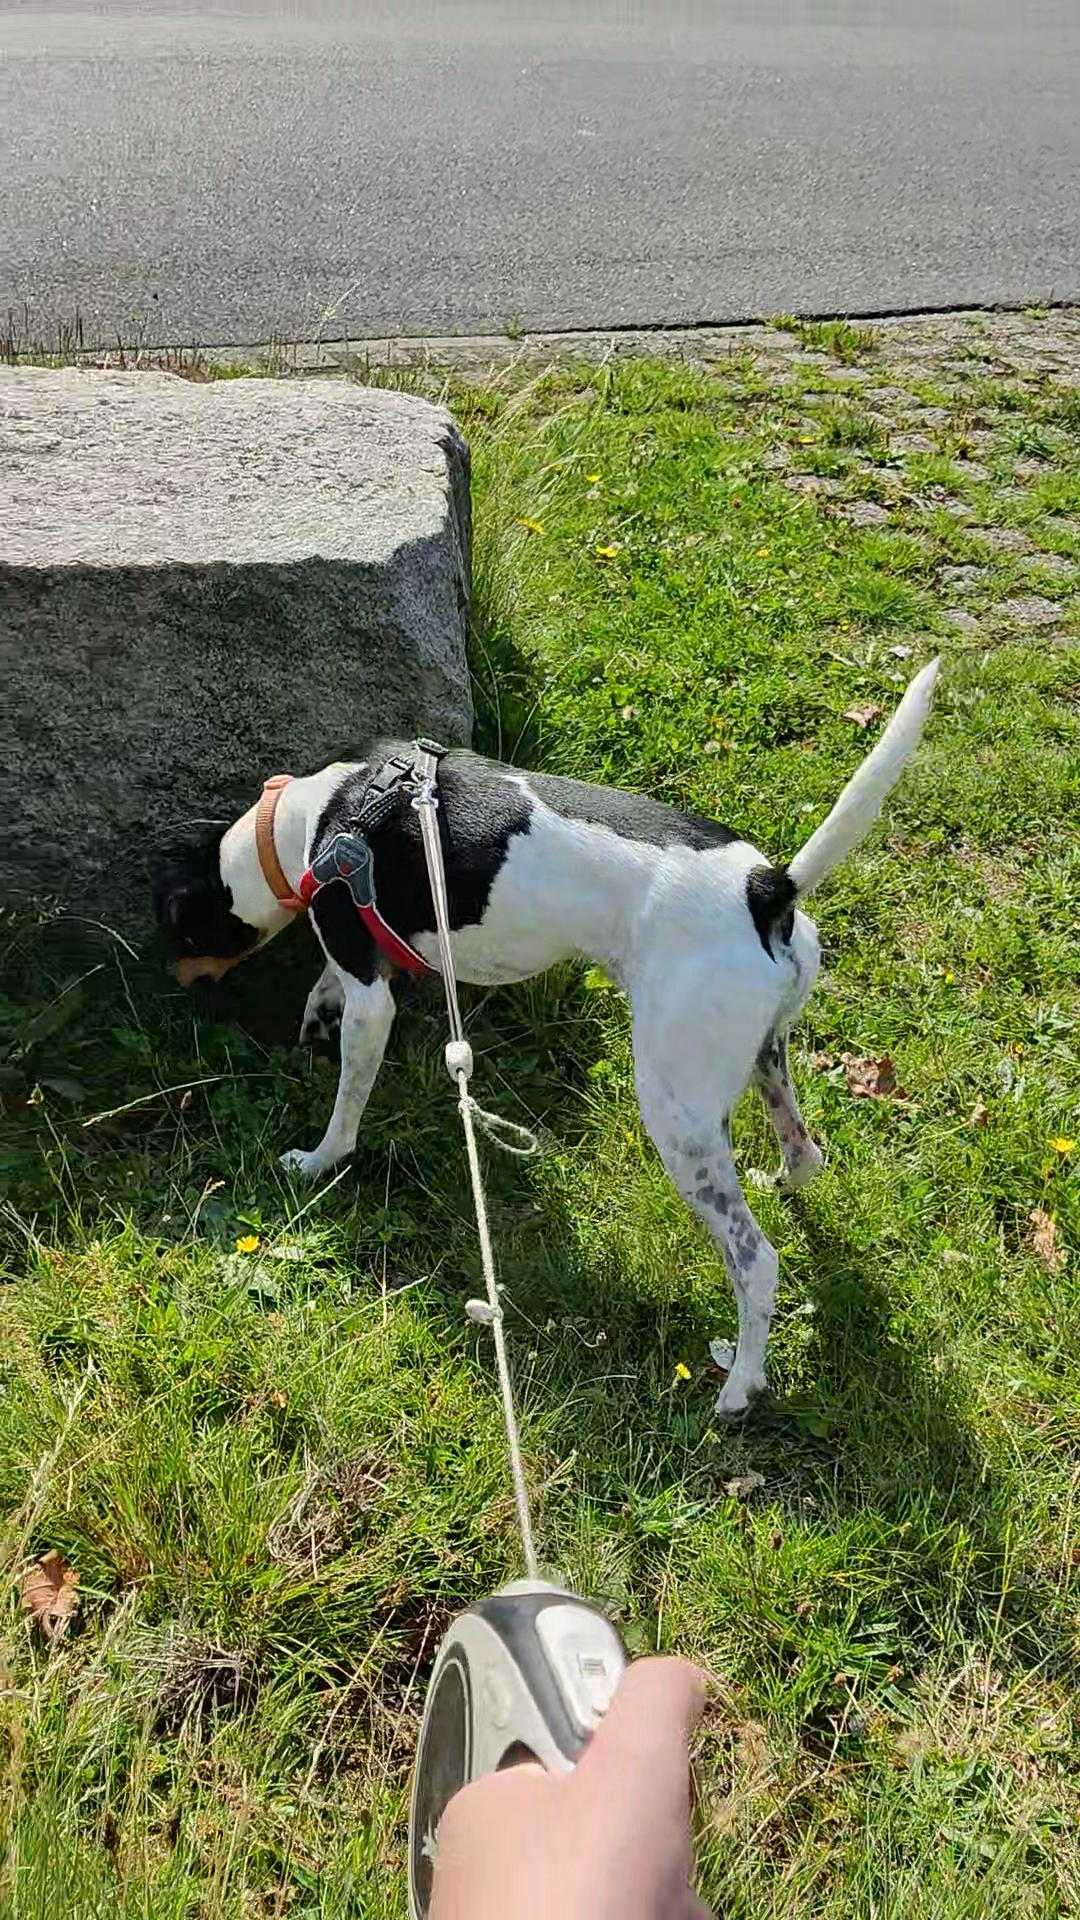Dog: (154, 644, 951, 1425)
